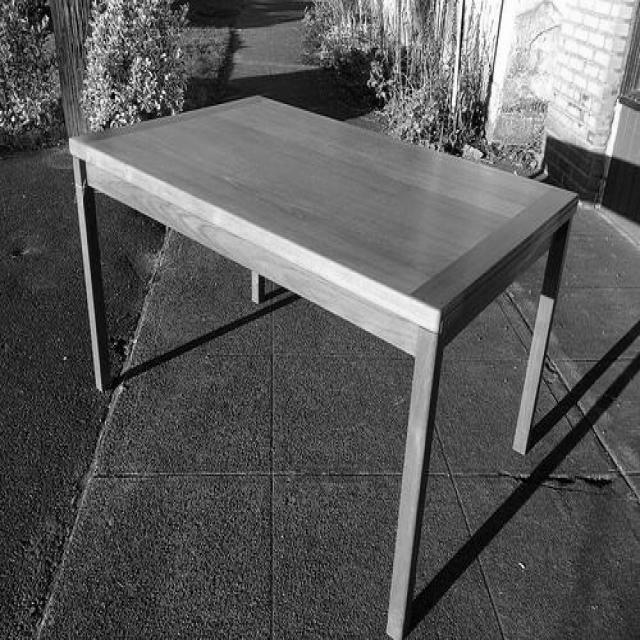table: (63, 92, 582, 639)
